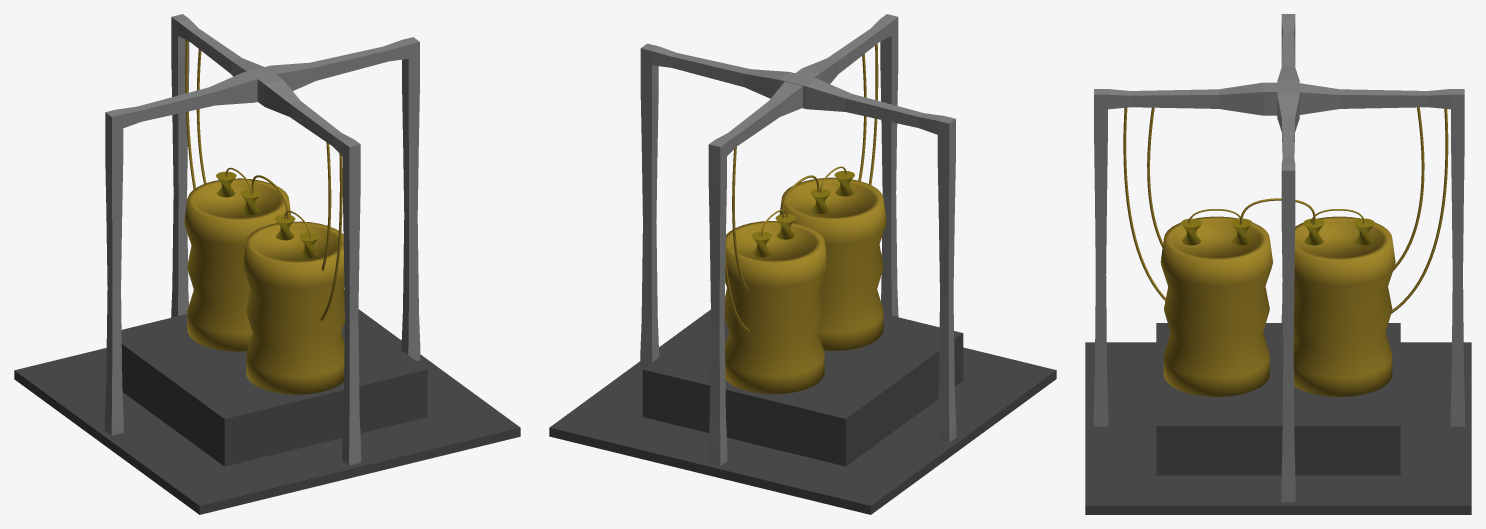
The model's file is PowerStorageLevel3.fbx.
3 views of the same model, side by side, from view 1: azimuth 30°, elevation 25°; view 2: azimuth 150°, elevation 25°; view 3: azimuth 270°, elevation 25° (orthographic). The views are drawn at different scales.
Visible parts, largest first — view 1: Cube.001, Cube, Cylinder.001, Cylinder.004, NurbsPath.002; view 2: Cube.001, Cube, Cylinder.004, Cylinder.001; view 3: Cube.001, Cube, Cylinder.001, Cylinder.004, NurbsPath.001, NurbsPath.002, NurbsPath, NurbsPath.003.
Part boxes in pixels (left/top/right/bottom): Cube.001: left=14, top=309, right=520, bottom=514; Cube: left=104, top=14, right=420, bottom=465; Cylinder.001: left=243, top=221, right=344, bottom=394; Cylinder.004: left=184, top=178, right=291, bottom=351; NurbsPath.002: left=320, top=153, right=342, bottom=320; Cube.001: left=549, top=309, right=1056, bottom=514; Cube: left=640, top=14, right=956, bottom=466; Cylinder.004: left=724, top=221, right=827, bottom=394; Cylinder.001: left=779, top=177, right=886, bottom=350; Cube.001: left=1085, top=323, right=1471, bottom=514; Cube: left=1093, top=14, right=1464, bottom=502; Cylinder.001: left=1160, top=216, right=1272, bottom=396; Cylinder.004: left=1293, top=216, right=1395, bottom=396; NurbsPath.001: left=1391, top=108, right=1448, bottom=313; NurbsPath.002: left=1123, top=107, right=1165, bottom=300; NurbsPath: left=1393, top=107, right=1424, bottom=270; NurbsPath.003: left=1147, top=107, right=1163, bottom=247.
Bounding box in the file's own units: 1.98 × 1.96 × 1.98.
